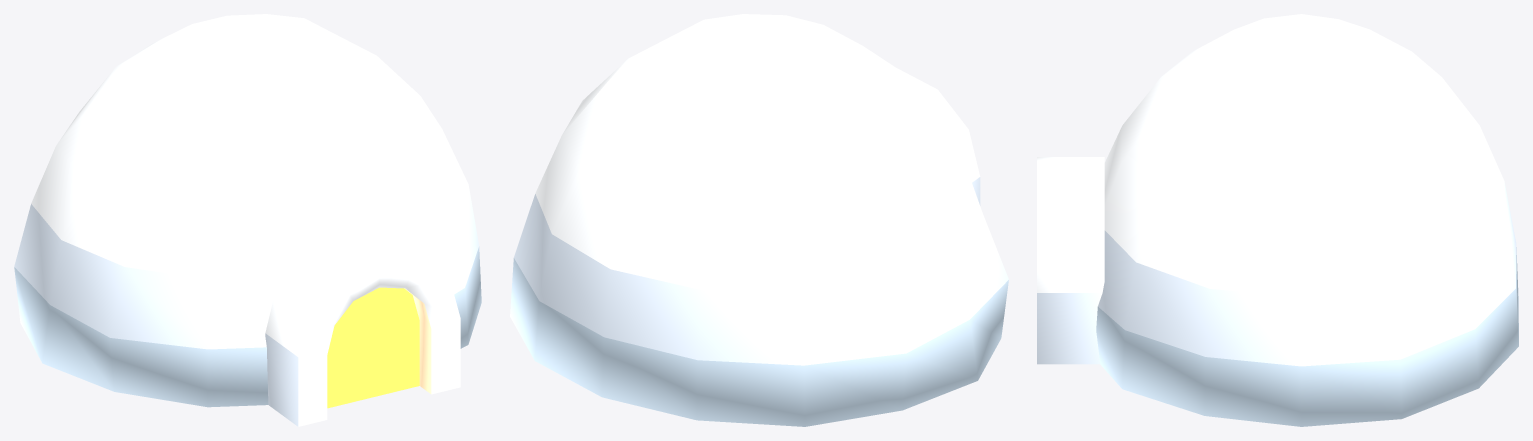
The model's file is kamakura.glb.
The picture shows the model from 3 angles, left to right: view 1: azimuth 30°, elevation 25°; view 2: azimuth 150°, elevation 25°; view 3: azimuth 270°, elevation 25°; orthographic projection. The views are drawn at different scales.
Parts seen in each view (by area): view 1: kamakura; view 2: kamakura; view 3: kamakura.
Part boxes in pixels (box(x1,y1,x2,y2)): kamakura: box(14, 14, 481, 426); kamakura: box(510, 14, 1008, 426); kamakura: box(1037, 14, 1518, 426).
Bounding box in the file's own units: 3.98 × 2.6 × 3.92.
